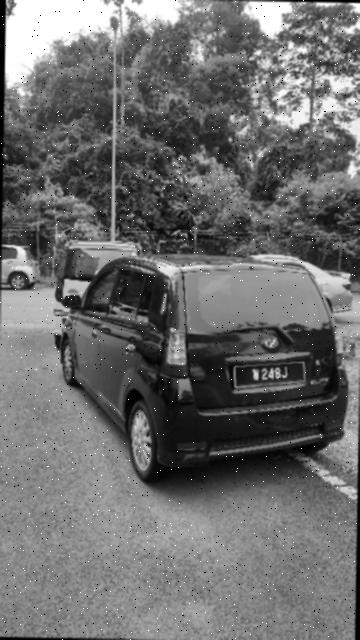License_Plate: (229, 350, 322, 397)
car: (58, 247, 359, 490)
